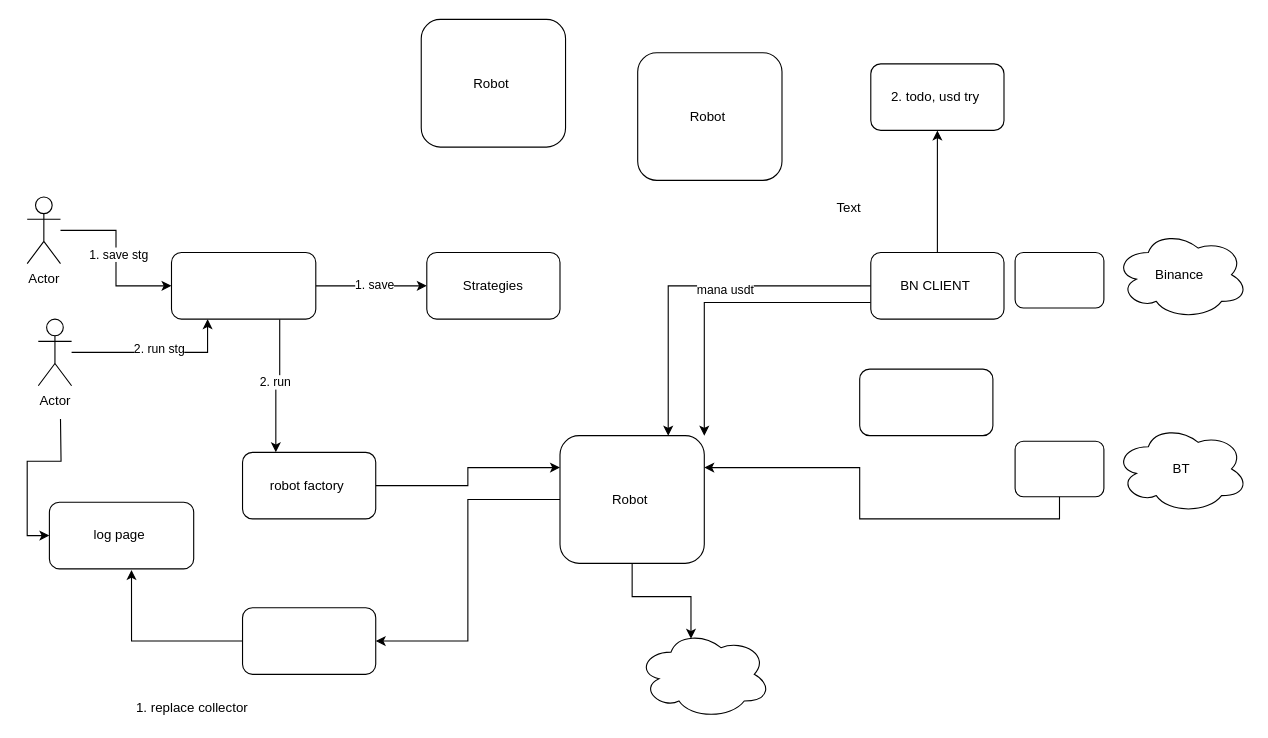
Some shapes in this 1268 by 738 pixel diagram are drawn without their labels. Each missing label, with the box of its shape:
blackops api: (170, 251, 316, 319)
BN API: (1014, 251, 1104, 308)
BT API: (1014, 440, 1104, 497)
BT CLİENT: (859, 368, 993, 436)
Dummy BT: (637, 629, 771, 719)
log collector: (241, 607, 376, 674)
